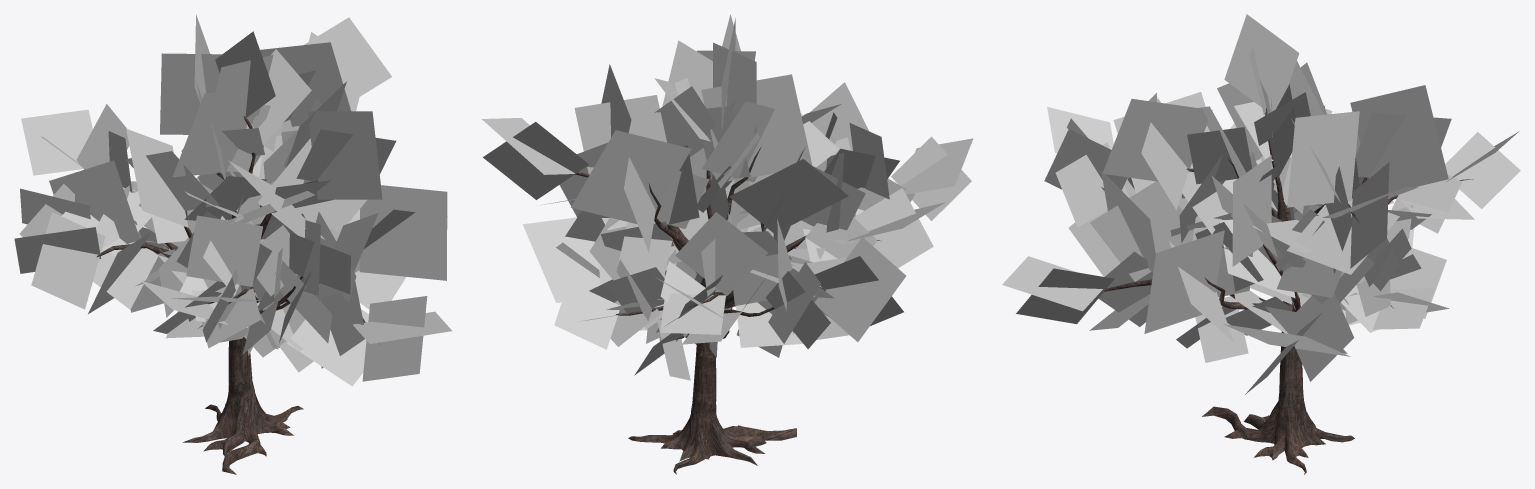
The model's file is SM_Veg_Tree_01.FBX.
The picture shows the model from 3 angles, left to right: view 1: azimuth 30°, elevation 25°; view 2: azimuth 150°, elevation 25°; view 3: azimuth 270°, elevation 25°; orthographic projection.
Parts seen in each view (by area): view 1: SM_Tree_01_LOD0; view 2: SM_Tree_01_LOD0; view 3: SM_Tree_01_LOD0.
Boxes of the visible parts, x1=… form: SM_Tree_01_LOD0: x1=14, y1=14, x2=451, y2=474; SM_Tree_01_LOD0: x1=482, y1=14, x2=973, y2=474; SM_Tree_01_LOD0: x1=1002, y1=14, x2=1520, y2=474.
Size of what is drawn, in the model's own units: 11.7 by 12.05 by 13.42.
